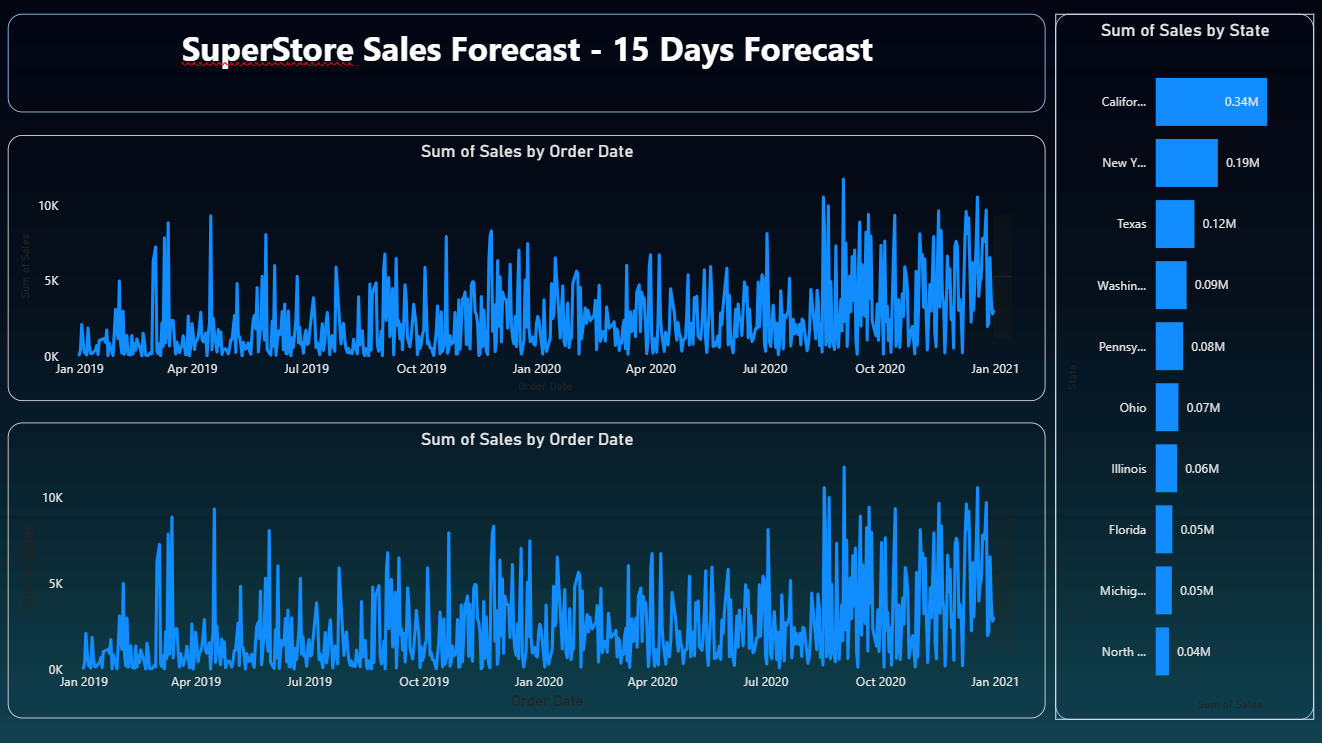

This screenshot's page, from the dashboard's own definition file:
{"tool":"powerbi","page":{"name":"Page 2","canvas":[1280,720],"ordinal":1},"visuals":[{"type":"lineChart","fields":{"Y":["Sum(SuperStore_Sales_Dataset.Sales)"],"Category":["SuperStore_Sales_Dataset.Order Date"]},"box":[17.8,131.7,1001.7,256.6],"z":0},{"type":"lineChart","fields":{"Y":["Sum(SuperStore_Sales_Dataset.Sales)"],"Category":["SuperStore_Sales_Dataset.Order Date"]},"box":[17.8,408.9,1001.7,285.4],"z":1000},{"type":"textbox","box":[17.8,13.7,1001.7,94.7],"z":2000},{"type":"clusteredBarChart","fields":{"Category":["SuperStore_Sales_Dataset.State"],"Y":["Sum(SuperStore_Sales_Dataset.Sales)"]},"box":[1030.5,13.7,249.7,680.6],"z":3000}]}

Visuals, with their boxes in screenshot pixels (x1, y1, x2, y2), scaled from the page's 1280x720 canvas onto the 1322x743 screenshot:
lineChart - Sum(SuperStore_Sales_Dataset.Sales) x SuperStore_Sales_Dataset.Order Date: {"x1": 18, "y1": 136, "x2": 1053, "y2": 401}
lineChart - Sum(SuperStore_Sales_Dataset.Sales) x SuperStore_Sales_Dataset.Order Date: {"x1": 18, "y1": 422, "x2": 1053, "y2": 716}
textbox: {"x1": 18, "y1": 14, "x2": 1053, "y2": 112}
clusteredBarChart - SuperStore_Sales_Dataset.State x Sum(SuperStore_Sales_Dataset.Sales): {"x1": 1064, "y1": 14, "x2": 1321, "y2": 716}
